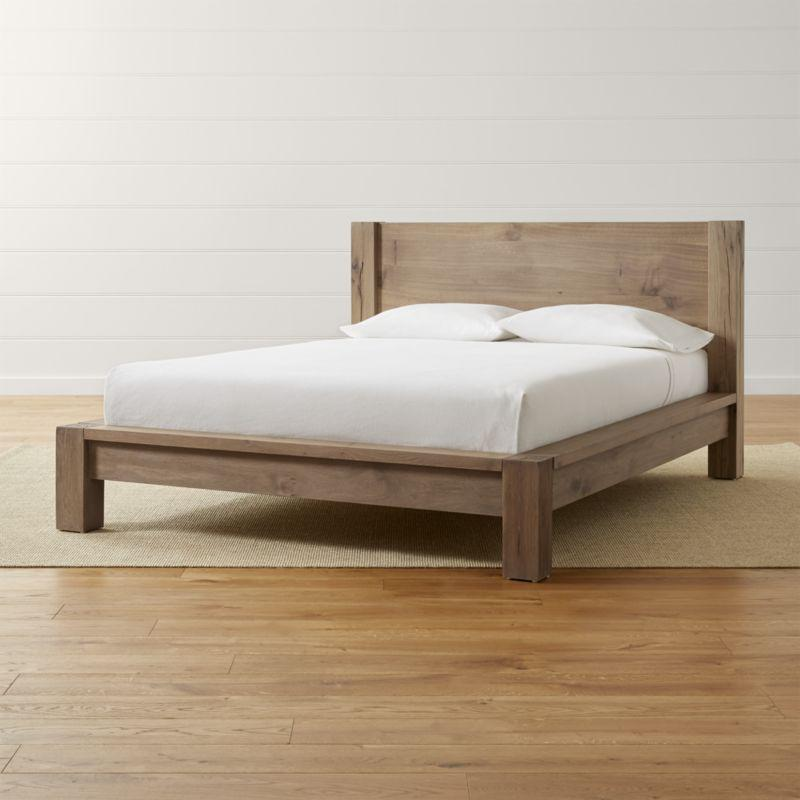bed: (36, 215, 765, 590)
